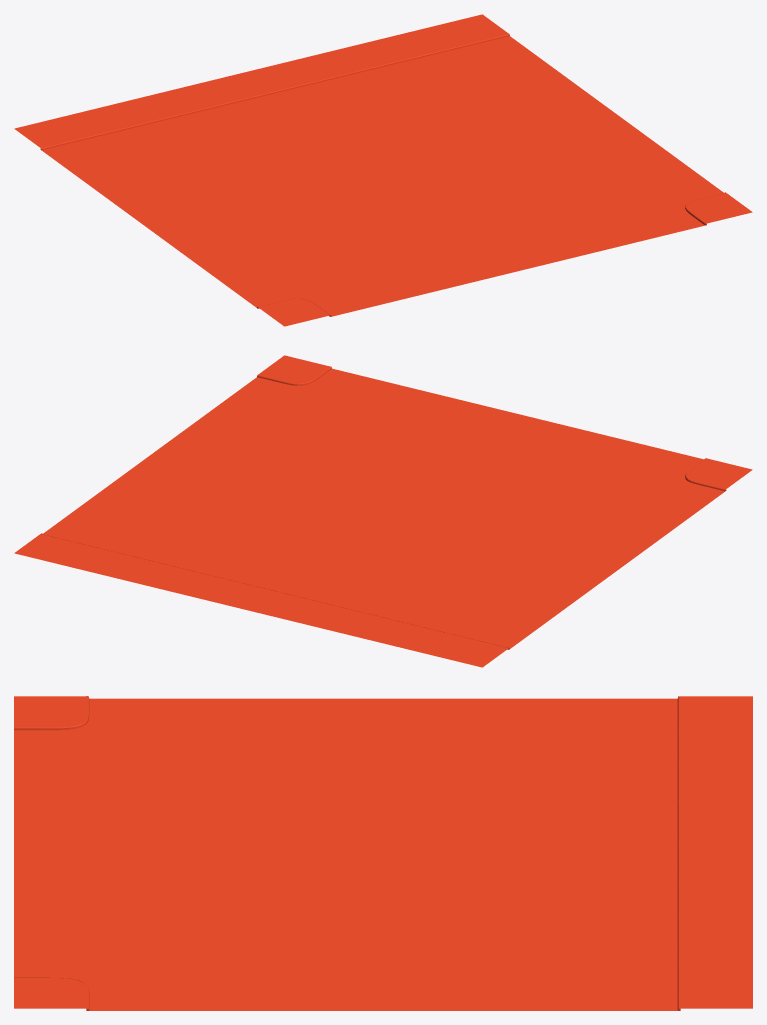
Rendered from SM_Freeway_T_30x30_City.fbx.
3 renders of one model, top to bottom at view 1: azimuth 30°, elevation 25°; view 2: azimuth 150°, elevation 25°; view 3: azimuth 270°, elevation 25°, orthographic. The views are drawn at different scales.
Visible parts, largest first — view 1: SM_Freeway_T_30x30_City; view 2: SM_Freeway_T_30x30_City; view 3: SM_Freeway_T_30x30_City.
Boxes of the visible parts, left/top/right/bottom form: SM_Freeway_T_30x30_City: left=14, top=14, right=752, bottom=326; SM_Freeway_T_30x30_City: left=14, top=355, right=752, bottom=667; SM_Freeway_T_30x30_City: left=14, top=696, right=752, bottom=1010.
Size of the model in its own units: 30 by 0.1084 by 30.
